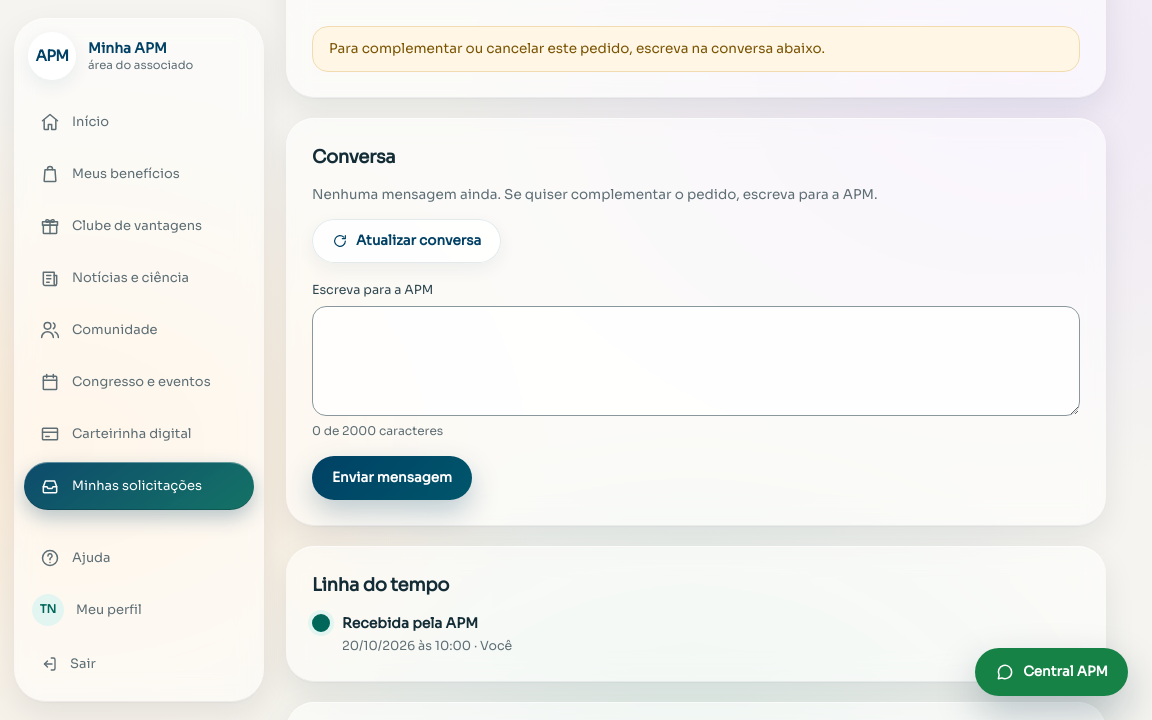
Test: Minhas solicitações com a paridade ligada › limite de mensagens: mostra quando dá para enviar de novo e mantém o texto
(page scrolled)
Expected: the text "Nenhuma mensagem ainda" is shown, [312,186,878,203]
In the text box labelled "Escreva para a APM": (696, 361) [312,306,1080,416], type "Qual é o prazo?"
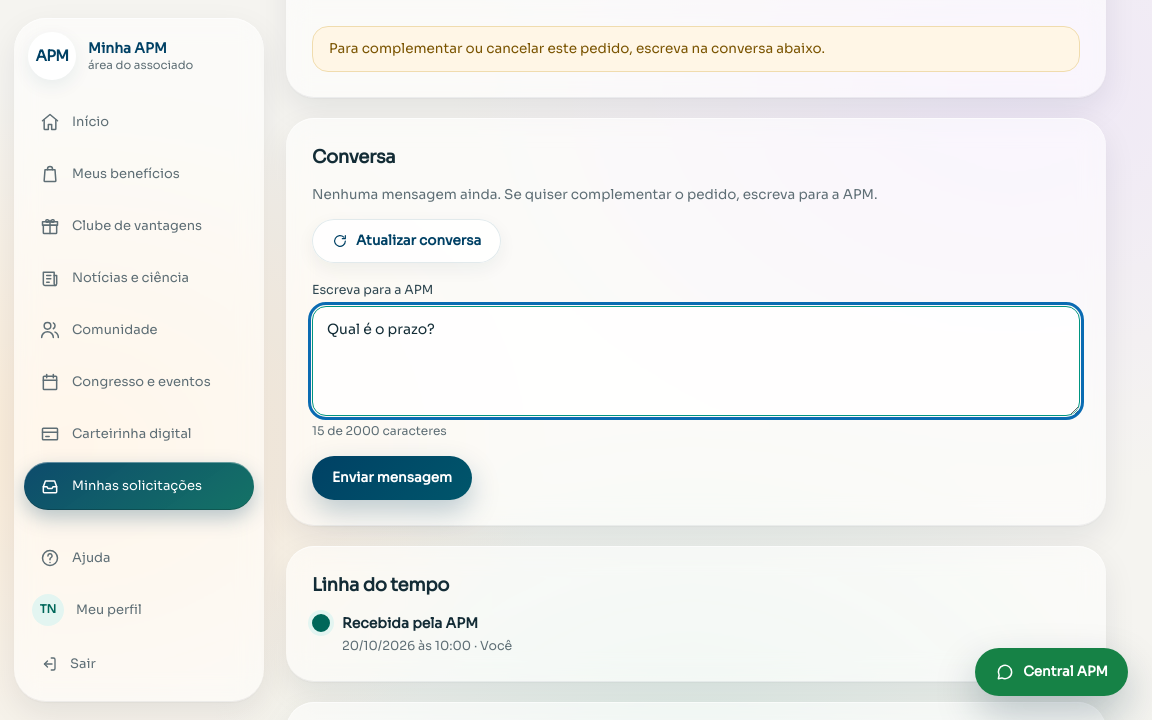
Click the button "Enviar mensagem": (392, 478) [312,456,472,500]
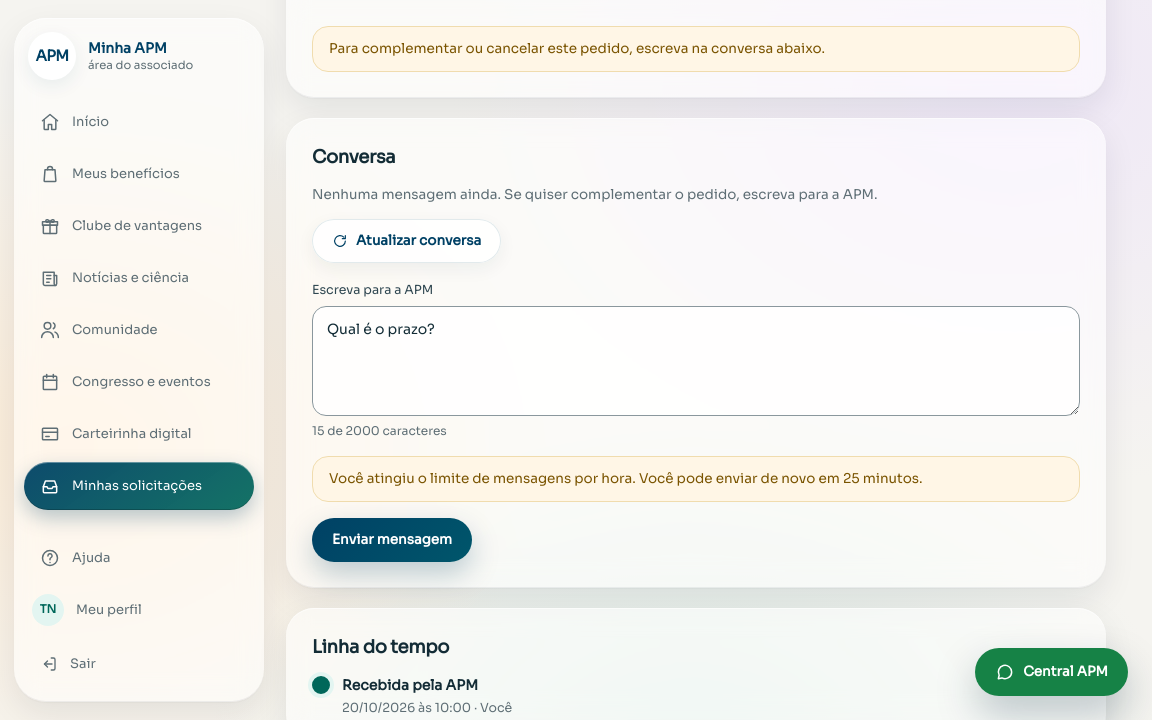
Expected: the text "limite de mensagens por hora. Você pode enviar de novo em 25 minutos." is shown, [329,470,922,487]
